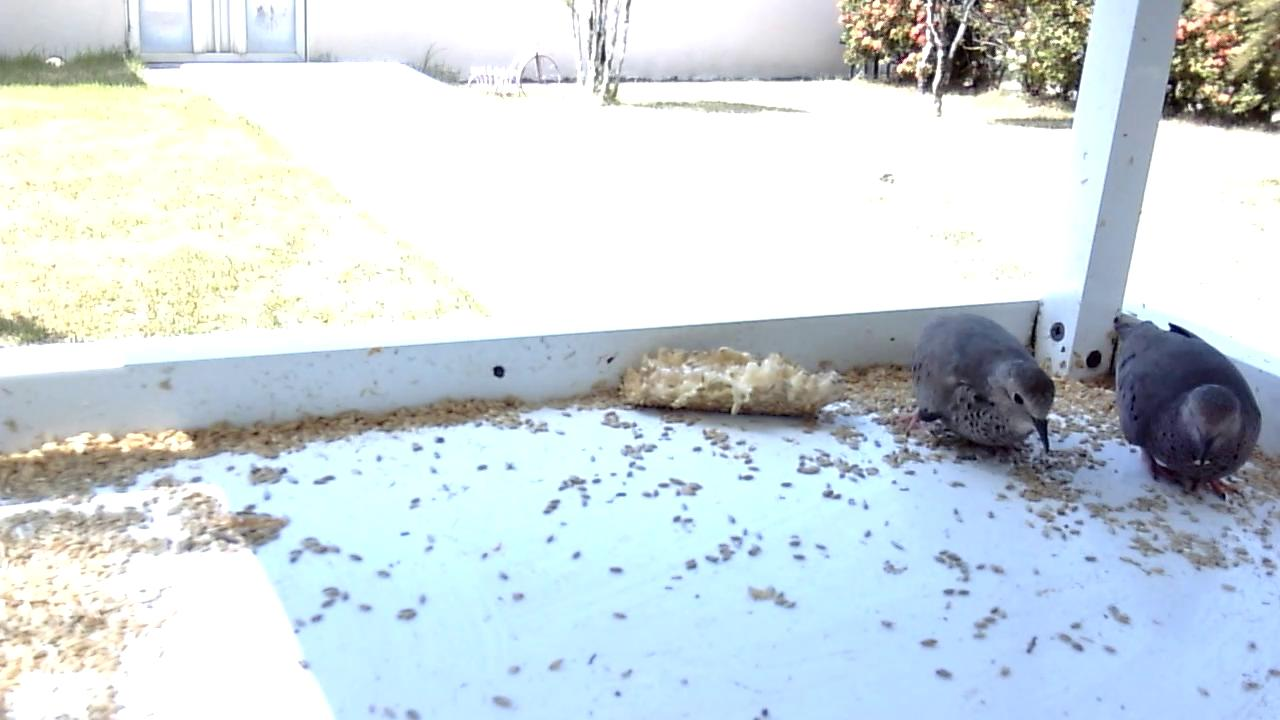rolinha: (1108, 312, 1266, 506), (891, 309, 1057, 468)
